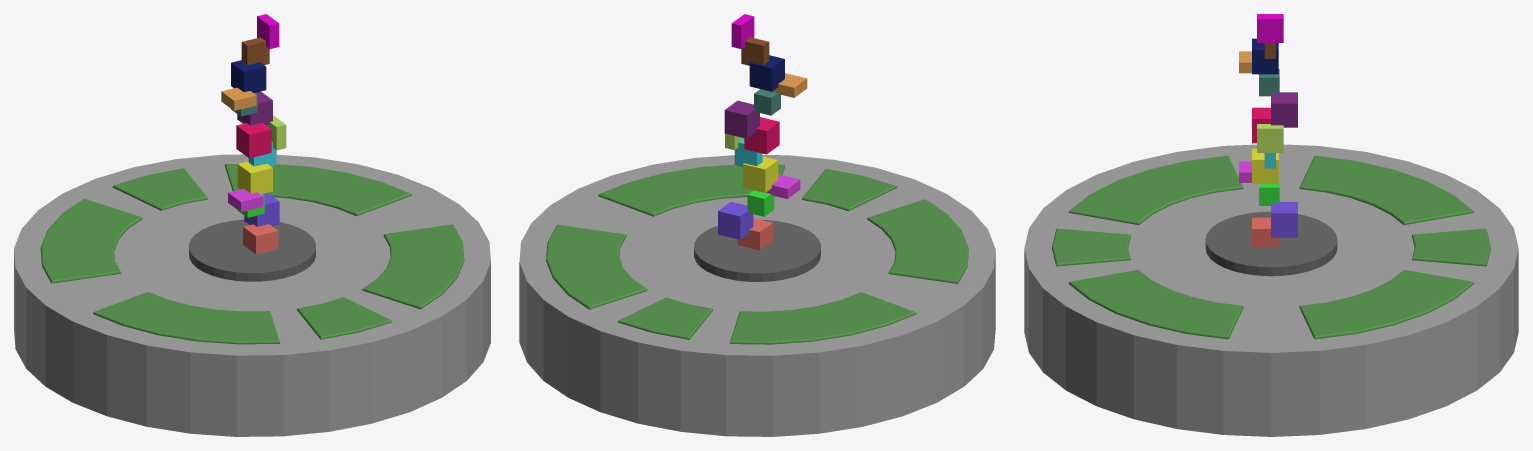
File: Rotunda.fbx
3 views of the same model, side by side, from view 1: azimuth 30°, elevation 25°; view 2: azimuth 150°, elevation 25°; view 3: azimuth 270°, elevation 25° (orthographic). The views are drawn at different scales.
Visible parts, largest first — view 1: Cylinder.007, Cube.013, Cube.004, Cube.009, Cube, Cube.008, Cube.001, Cube.012, Cube.007, Cube.010, Cube.003, Cube.006; view 2: Cylinder.007, Cube.012, Cube.001, Cube.004, Cube.009, Cube.013, Cube, Cube.008, Cube.007, Cube.002, Cube.011, Cube.003 (+2 smaller); view 3: Cylinder.007, Cube.001, Cube.012, Cube.007, Cube.006, Cube.009, Cube.004, Cube.
Part boxes in pixels (bbox=[...]): Cylinder.007: bbox=[14, 154, 490, 436]; Cube.013: bbox=[236, 122, 271, 158]; Cube.004: bbox=[237, 161, 272, 194]; Cube.009: bbox=[231, 60, 266, 92]; Cube: bbox=[243, 224, 278, 254]; Cube.008: bbox=[241, 37, 269, 65]; Cube.001: bbox=[244, 193, 279, 226]; Cube.012: bbox=[237, 91, 272, 125]; Cube.007: bbox=[257, 14, 279, 48]; Cube.010: bbox=[221, 87, 256, 110]; Cube.003: bbox=[228, 189, 263, 212]; Cube.006: bbox=[266, 115, 286, 150]; Cylinder.007: bbox=[519, 155, 995, 436]; Cube.012: bbox=[724, 100, 759, 138]; Cube.001: bbox=[718, 201, 753, 239]; Cube.004: bbox=[743, 156, 778, 192]; Cube.009: bbox=[749, 55, 784, 91]; Cube.013: bbox=[744, 117, 779, 154]; Cube: bbox=[737, 218, 772, 250]; Cube.008: bbox=[741, 37, 769, 65]; Cube.007: bbox=[731, 14, 754, 48]; Cube.002: bbox=[747, 190, 774, 216]; Cube.011: bbox=[754, 89, 780, 115]; Cube.003: bbox=[766, 174, 800, 198]; Cylinder.007: bbox=[1024, 144, 1518, 436]; Cube.001: bbox=[1271, 202, 1297, 237]; Cube.012: bbox=[1271, 92, 1297, 127]; Cube.007: bbox=[1257, 14, 1283, 42]; Cube.006: bbox=[1257, 124, 1283, 152]; Cube.009: bbox=[1252, 38, 1278, 74]; Cube.004: bbox=[1252, 148, 1278, 183]; Cube: bbox=[1252, 217, 1278, 247].
Size of the model in its own units: 57.37 by 41.45 by 57.37.
